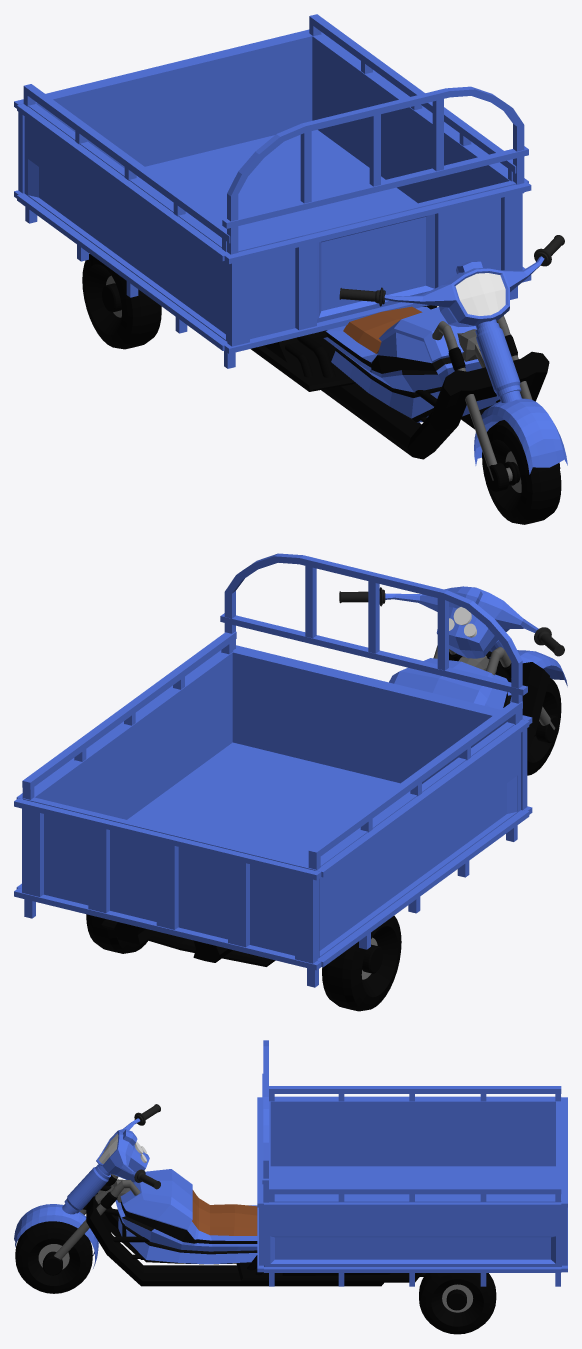
File: Taxi Bagage .fbx
3 renders of one model, top to bottom at view 1: azimuth 30°, elevation 25°; view 2: azimuth 150°, elevation 25°; view 3: azimuth 270°, elevation 25°, orthographic. The views are drawn at different scales.
Parts seen in each view (by area): view 1: Cube.005, Cube.006, Cube.008, Cube.009, Cube.007, Cube.002, Cube.003, Cube, Cylinder.002, Cylinder.026, Cylinder.001, Cube.029 (+21 smaller); view 2: Cube.006, Cube.009, Cube.008, Cube.005, Cube.007, Cylinder.026, Cube, Cube.039, Cube.033, Cube.029, Cube.015, Cube.002 (+22 smaller); view 3: Cube.008, Cube.007, Cube.002, Cube.009, Cube.001, Cylinder.002, Cylinder.025, Cube.033, Cube.039, Cube.004, Cube.010, Cube (+10 smaller).
Boxes of the visible parts, box(x1,y1,x2,y2) form: Cube.005: box(24, 33, 312, 195); Cube.006: box(226, 181, 516, 341); Cube.008: box(28, 104, 225, 340); Cube.009: box(136, 129, 417, 246); Cube.007: box(312, 34, 510, 203); Cube.002: box(323, 306, 499, 422); Cube.003: box(321, 367, 495, 459); Cube: box(384, 256, 544, 326); Cylinder.002: box(482, 420, 561, 524); Cylinder.026: box(82, 253, 161, 349); Cylinder.001: box(474, 398, 567, 474); Cube.029: box(222, 146, 528, 228); Cube.006: box(232, 649, 520, 811); Cube.009: box(127, 742, 410, 864); Cube.008: box(319, 722, 517, 957); Cube.005: box(23, 797, 319, 958); Cube.007: box(34, 652, 232, 819); Cylinder.026: box(322, 915, 401, 1011); Cube: box(385, 586, 538, 658); Cube.039: box(308, 701, 522, 859); Cube.033: box(22, 631, 236, 789); Cube.029: box(220, 613, 527, 695); Cube.015: box(14, 798, 321, 880); Cube.002: box(389, 658, 511, 709); Cube.008: box(270, 1098, 555, 1166); Cube.007: box(270, 1199, 555, 1266); Cube.002: box(115, 1169, 257, 1264); Cube.009: box(270, 1166, 555, 1198); Cube.001: box(86, 1196, 383, 1286); Cylinder.002: box(15, 1221, 92, 1293); Cylinder.025: box(419, 1273, 496, 1334); Cube.033: box(269, 1186, 561, 1194); Cube.039: box(269, 1086, 561, 1093); Cube.004: box(264, 1202, 561, 1208); Cube.010: box(264, 1267, 561, 1272); Cube: box(96, 1118, 149, 1182).
Size of the model in its own units: 934 by 887 by 2028.
